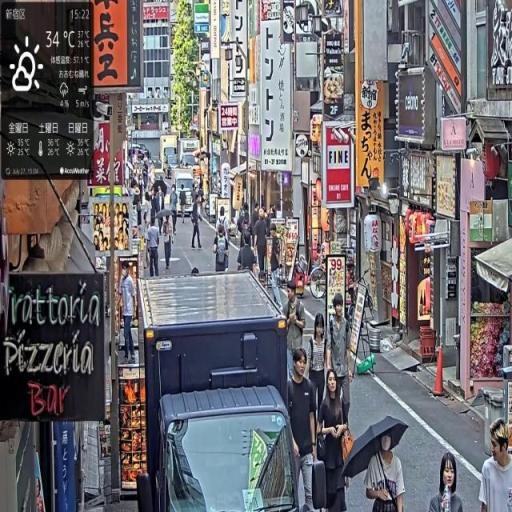person: (317, 369, 355, 512), (289, 345, 319, 510), (326, 292, 357, 438), (365, 424, 407, 512), (304, 314, 329, 441), (479, 420, 512, 512), (284, 280, 308, 379), (429, 452, 467, 512), (121, 261, 140, 366), (254, 210, 270, 283), (147, 219, 162, 278), (191, 193, 205, 251), (163, 213, 176, 272)
